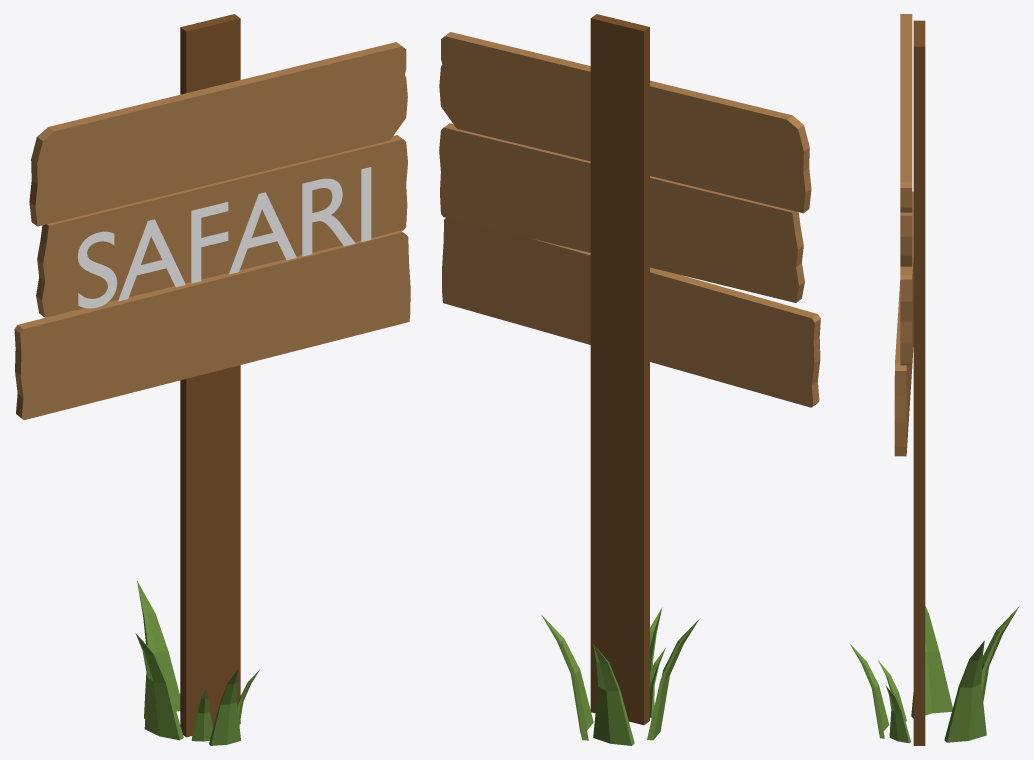
File: sign_safari.fbx
The picture shows the model from 3 angles, left to right: view 1: azimuth 30°, elevation 25°; view 2: azimuth 150°, elevation 25°; view 3: azimuth 270°, elevation 25°; orthographic projection.
Visible parts, largest first — view 1: Sign7, Text; view 2: Sign7; view 3: Sign7.
Boxes of the visible parts, box(x1,y1,x2,y2) form: Sign7: box(14, 14, 410, 745); Text: box(78, 167, 371, 308); Sign7: box(439, 14, 820, 745); Sign7: box(849, 14, 1019, 745).
Bounding box in the file's own units: 113 × 198 × 43.85.
